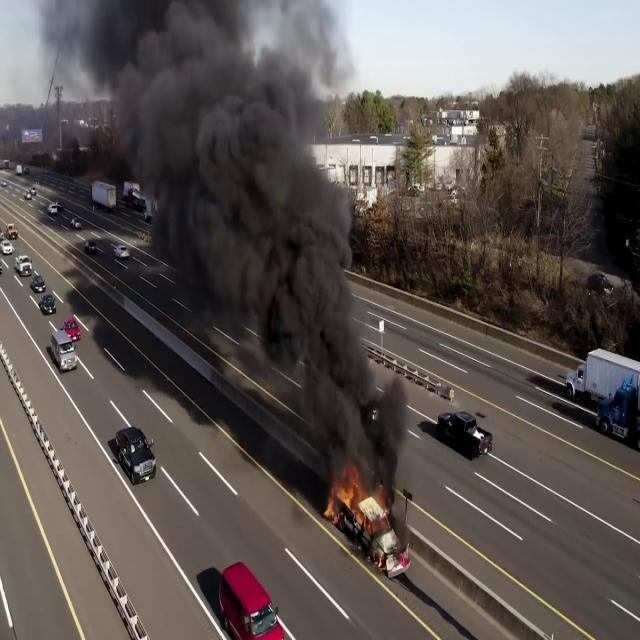Fire: (331, 469, 388, 531)
Smoke: (71, 0, 408, 475)
